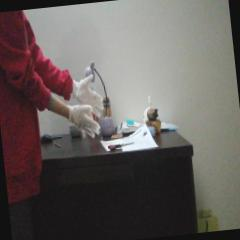gloved: (72, 72, 105, 110), (70, 103, 102, 138)
